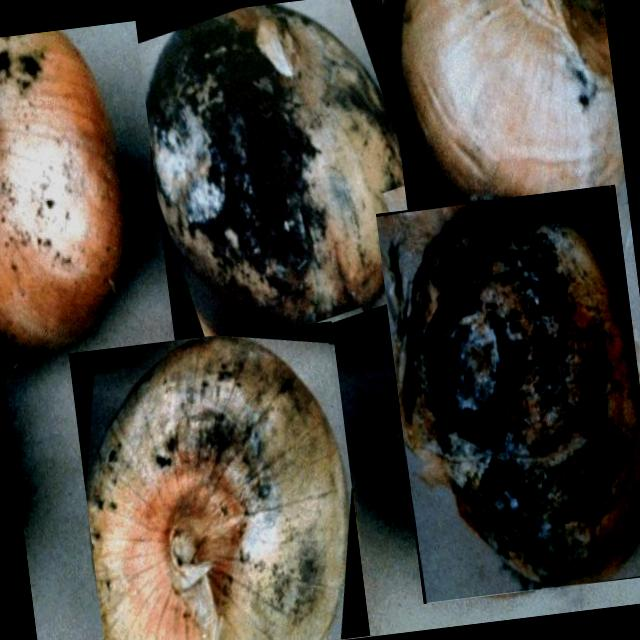mould: (398, 198, 640, 586), (146, 3, 409, 329), (87, 335, 349, 640)
